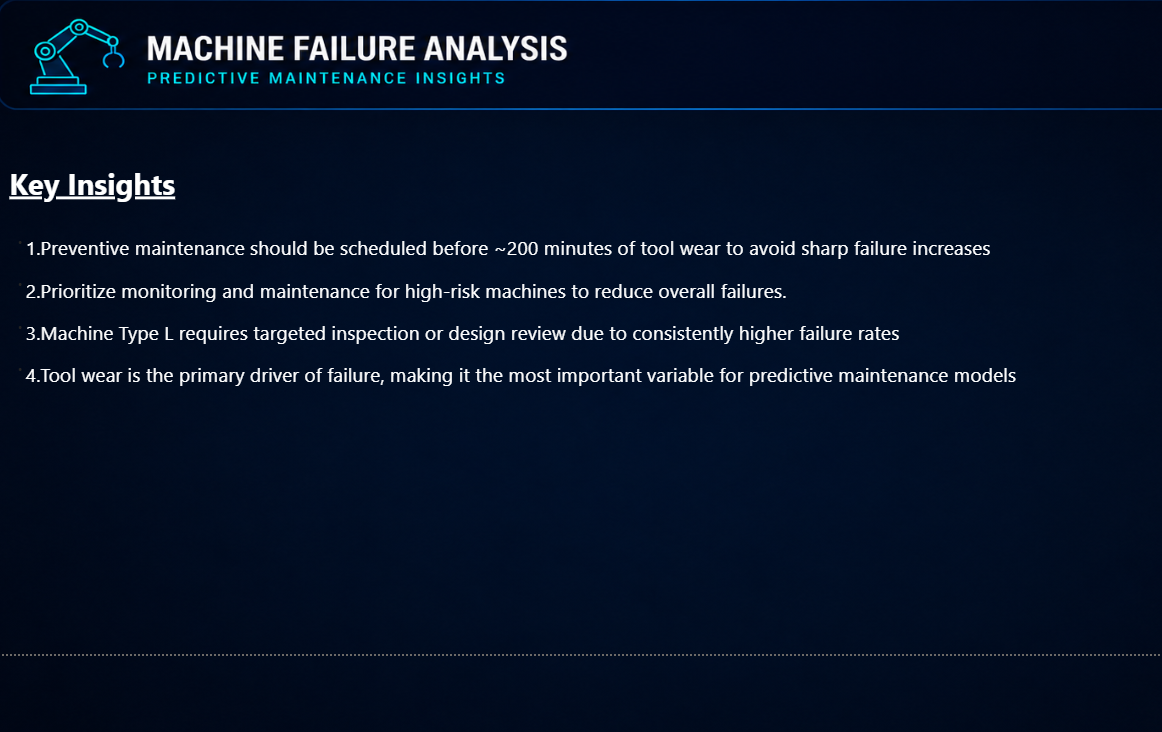

The page's visual inventory and layout, read from the dashboard file:
{"tool":"powerbi","page":{"name":"Insights","canvas":[1280,720],"ordinal":1},"visuals":[{"type":"textbox","box":[9.6,177,1218.5,400.7],"z":0}]}

Visuals, with their boxes on the page's 1280x720 design canvas (x1, y1, x2, y2). These are canvas units, not pixel positions in the 1162x732 screenshot, which may show the page scaled, cropped or inside an application window:
textbox: region(10, 177, 1228, 578)
